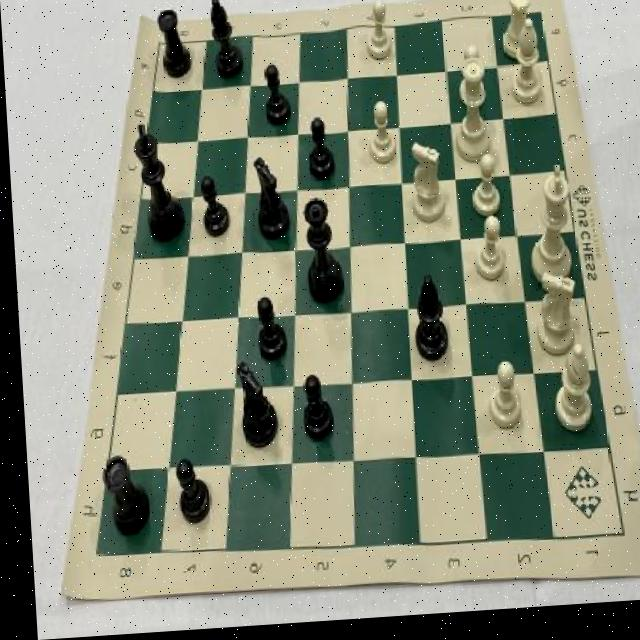bishop: (406, 274, 449, 371), (205, 0, 243, 86)
black-bishop: (129, 120, 186, 248)
black-king: (225, 358, 274, 459), (250, 153, 289, 248)
black-knight: (165, 454, 210, 534), (293, 371, 332, 446), (195, 171, 232, 247), (248, 297, 285, 367), (302, 115, 336, 191), (261, 64, 293, 133)
black-pawn: (296, 194, 343, 314)
black-queen: (93, 451, 148, 542), (154, 4, 193, 87)
black-rook: (544, 347, 591, 439), (504, 23, 545, 115)
white-bishop: (522, 165, 573, 293)
white-king: (527, 275, 577, 369), (405, 145, 447, 235)
white-knight: (479, 365, 519, 441), (469, 220, 507, 293), (362, 3, 396, 70), (468, 158, 501, 227), (363, 106, 395, 176), (454, 49, 488, 114)
white-pawn: (447, 65, 499, 171)
white-queen: (497, 0, 536, 70)
